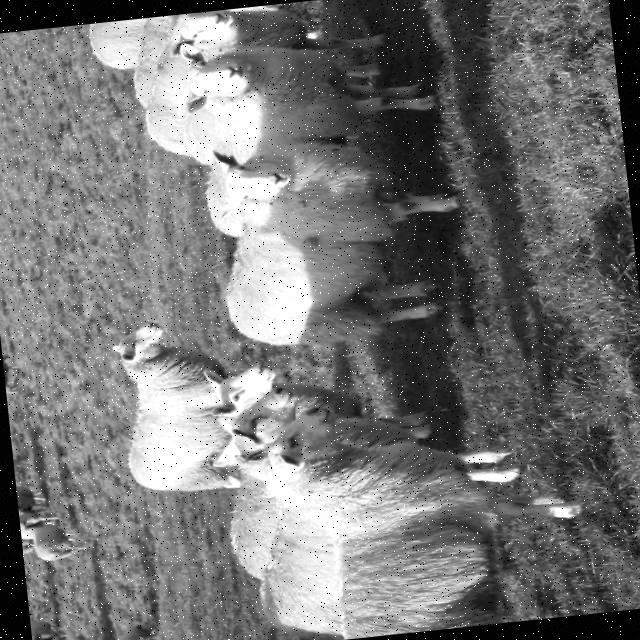sheep: (213, 143, 458, 344)
